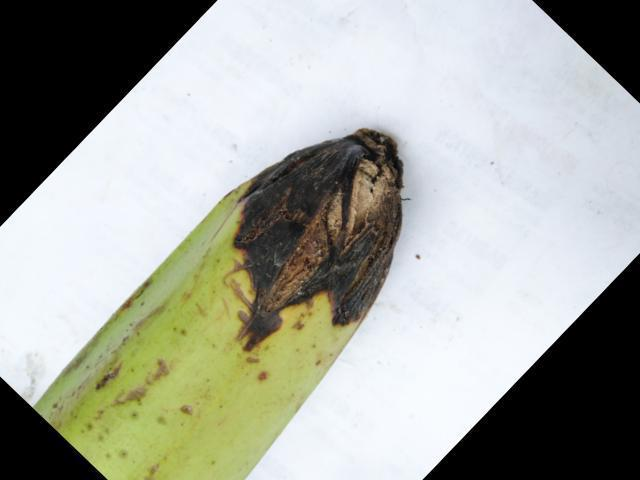rotten: (210, 113, 427, 370)
unripe: (37, 248, 267, 479)
